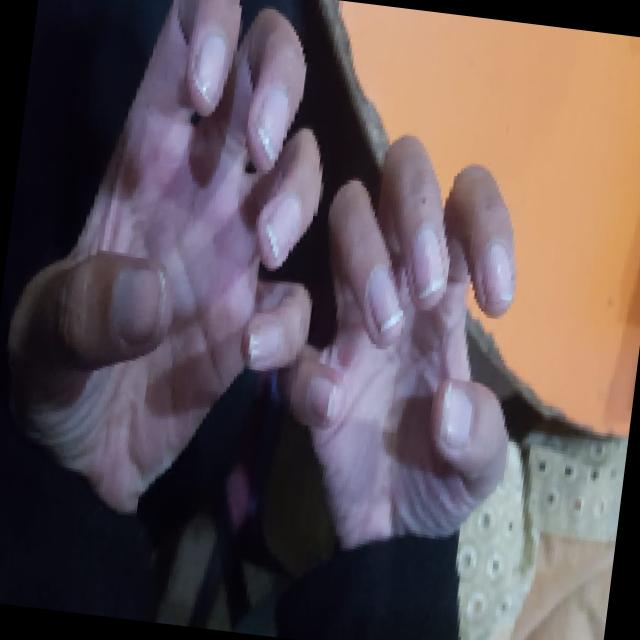Nail: (108, 266, 160, 346), (264, 193, 300, 266), (256, 88, 288, 167), (193, 33, 225, 108), (366, 266, 402, 330), (411, 227, 443, 297), (438, 385, 472, 448), (481, 242, 512, 302), (305, 375, 341, 423), (247, 324, 282, 361)
